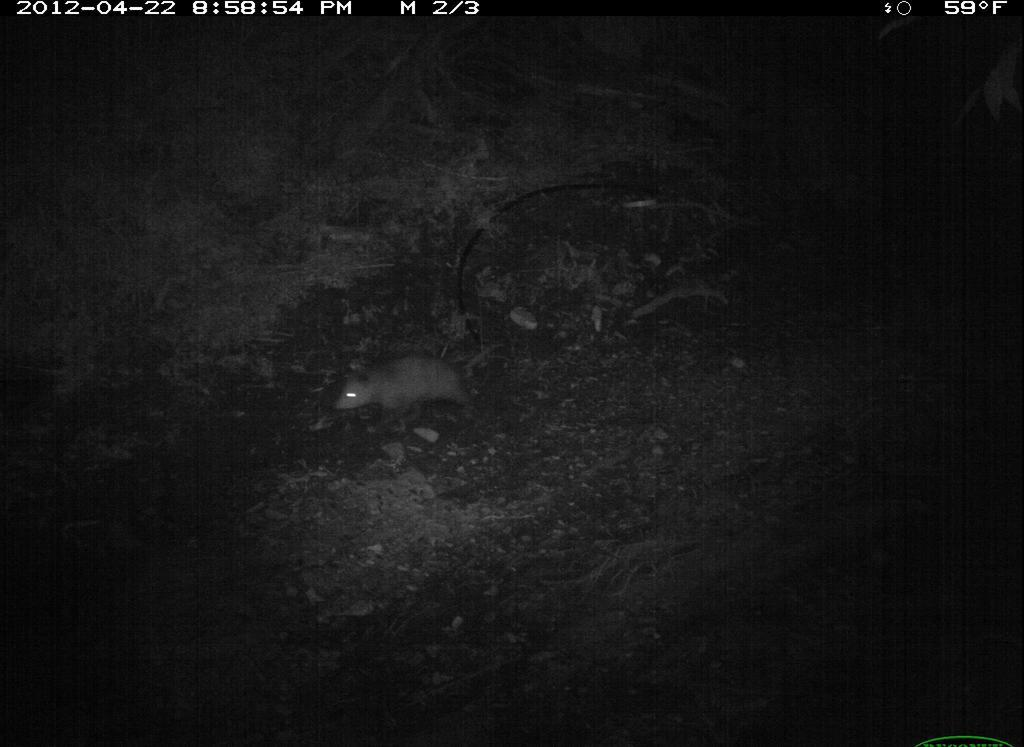opossum: (331, 349, 507, 436)
